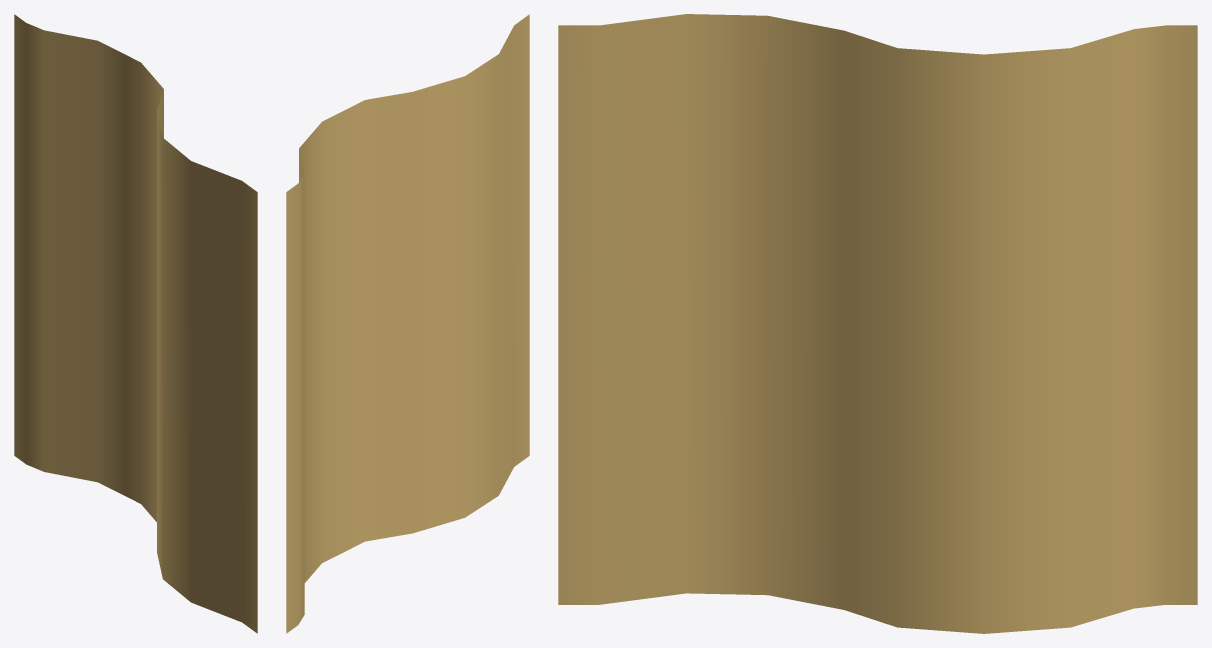
File: SandBlock_Middle_Edge_Mesh.fbx
The picture shows the model from 3 angles, left to right: view 1: azimuth 30°, elevation 25°; view 2: azimuth 150°, elevation 25°; view 3: azimuth 270°, elevation 25°; orthographic projection. The views are drawn at different scales.
Visible parts, largest first — view 1: SandBlock_Middle_Edge; view 2: SandBlock_Middle_Edge; view 3: SandBlock_Middle_Edge.
Part boxes in pixels (box(x1,y1,x2,y2)): SandBlock_Middle_Edge: box(14, 14, 257, 633); SandBlock_Middle_Edge: box(286, 14, 529, 633); SandBlock_Middle_Edge: box(558, 14, 1197, 633).
Bounding box in the file's own units: 30.02 × 200 × 200.
